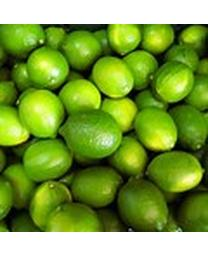lemon: (60, 110, 122, 158), (116, 178, 169, 232), (147, 152, 203, 192), (19, 91, 64, 138), (23, 139, 72, 182), (29, 182, 72, 231), (26, 47, 69, 91), (73, 167, 121, 206), (135, 107, 177, 151), (91, 56, 135, 98), (152, 61, 195, 103), (168, 105, 207, 149), (63, 31, 104, 71), (122, 51, 158, 90), (111, 137, 147, 176), (102, 98, 139, 131)
